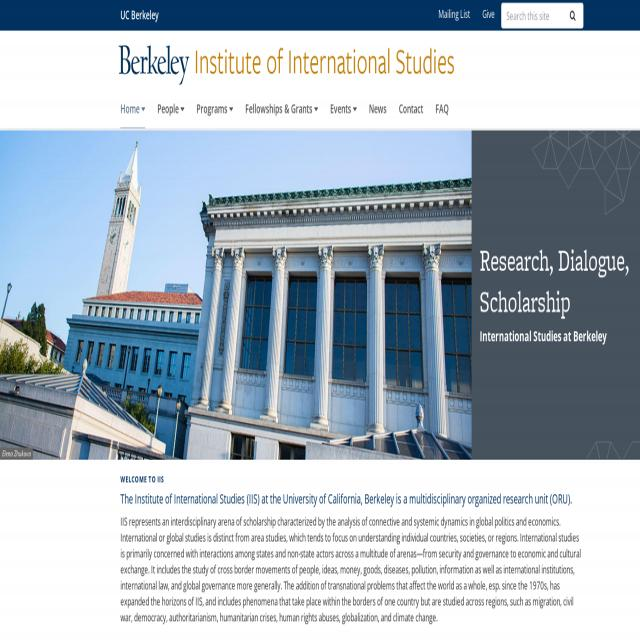button: (1, 130, 472, 460), (116, 36, 191, 88), (239, 93, 322, 127), (191, 94, 237, 127), (324, 93, 362, 126), (152, 94, 190, 127), (432, 0, 476, 28), (393, 93, 429, 127), (116, 94, 150, 128), (117, 2, 163, 26), (362, 93, 392, 126), (428, 93, 458, 126), (476, 0, 502, 28), (568, 8, 578, 24)
field: (501, 4, 583, 28)
